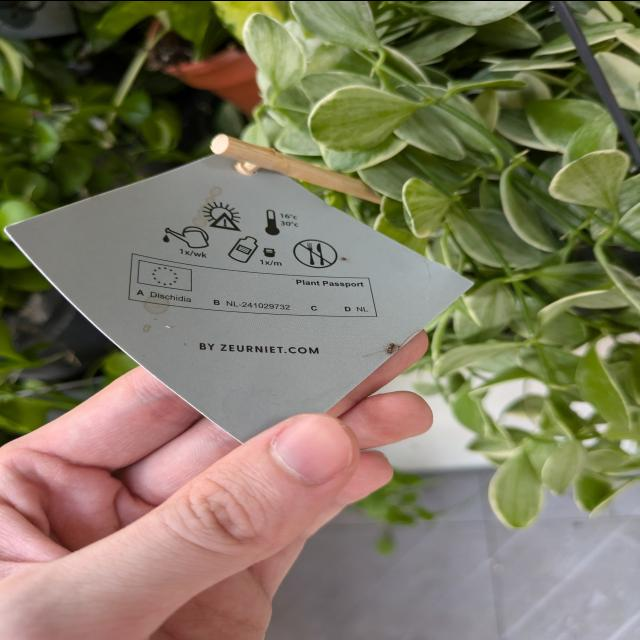dungen: (223, 234, 283, 268)
keine Sonne: (208, 200, 246, 230)
mittel giesen: (156, 221, 212, 257)
